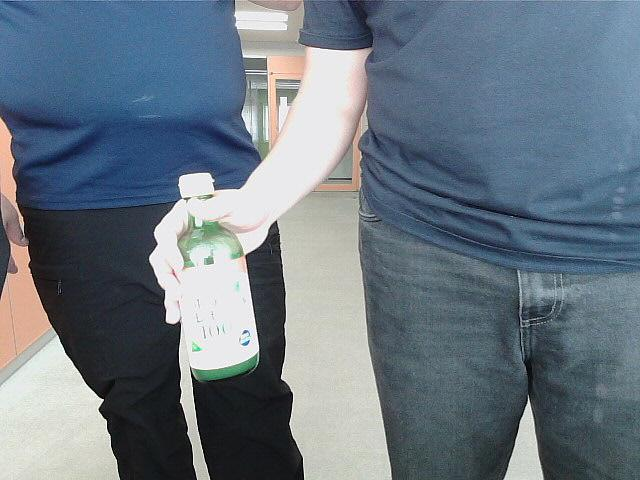Lemon_sapporo: (162, 168, 262, 388)
